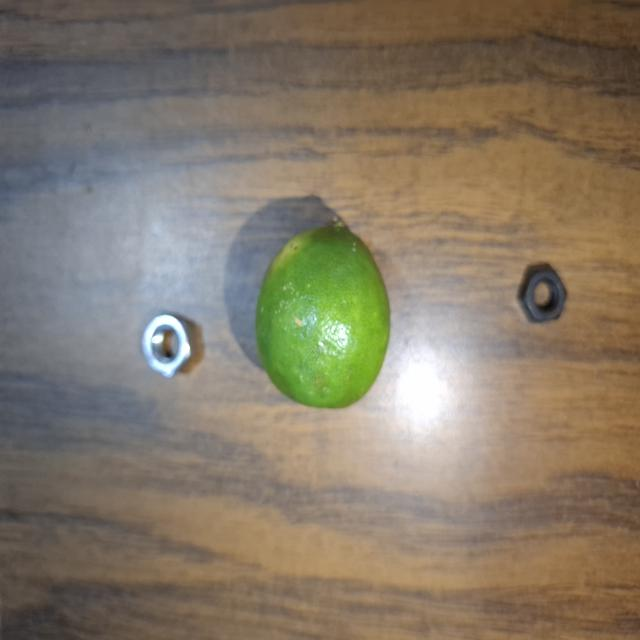limon: (255, 214, 390, 418)
milimetrico: (513, 262, 574, 330)
tuerca: (138, 312, 200, 383)
